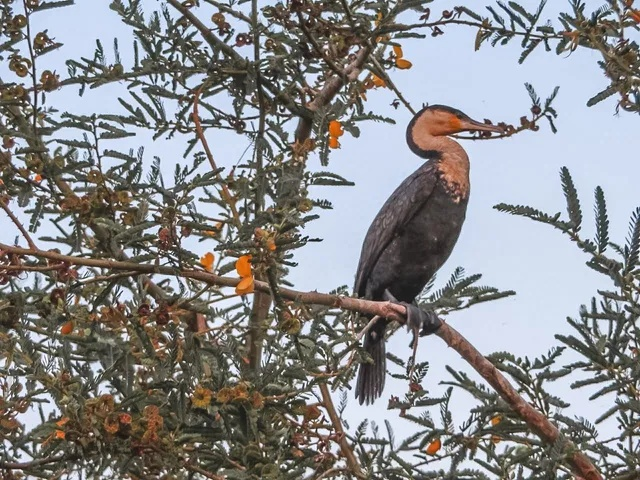bird: (339, 101, 509, 406)
